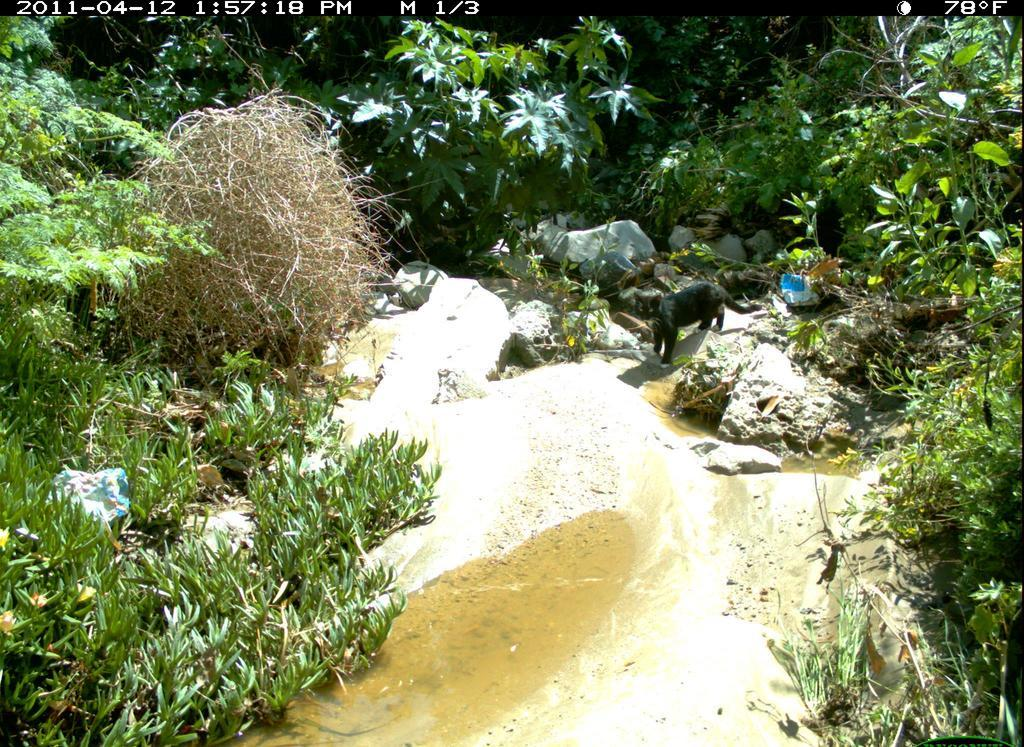cat: (632, 273, 776, 369)
